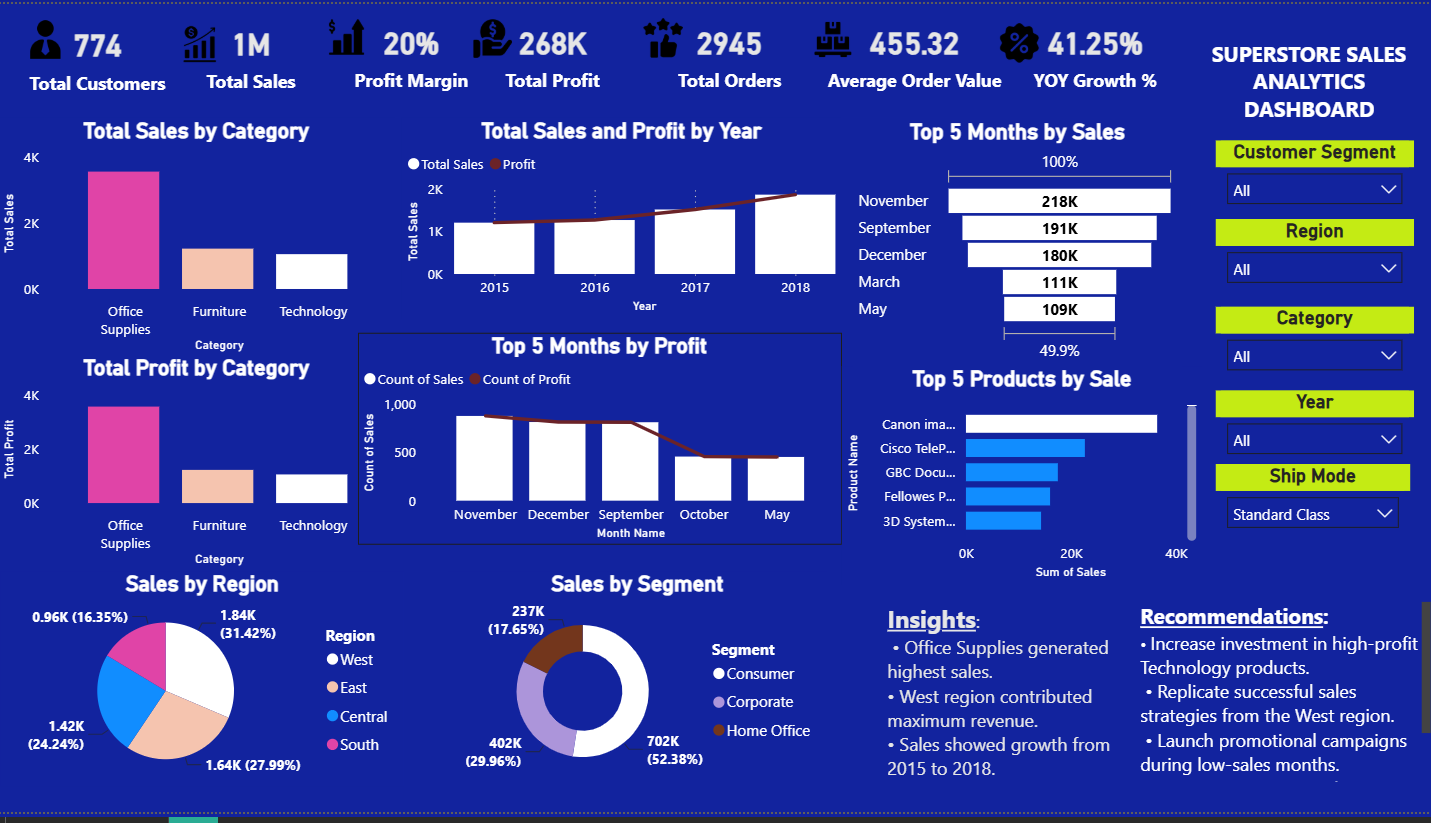

The dashboard page shown, as its layout file describes it:
{"tool":"powerbi","page":{"name":"Sales Dashboard","canvas":[1280,720],"ordinal":0},"visuals":[{"type":"card","fields":{"Values":["Sum(train task1.Sales)"]},"box":[159.3,1.2,132.6,89.5],"z":0},{"type":"card","fields":{"Values":["Sum(train task1.Profit)"]},"box":[418.6,0,151.2,89.5],"z":1000},{"type":"card","fields":{"Values":["Count(train task1.Order ID)"]},"box":[569.3,0,165.6,89.6],"z":2000},{"type":"columnChart","fields":{"Category":["train task1.Category"],"Y":["CountNonNull(train task1.Sales)"]},"box":[0,101.8,353.4,213.5],"z":3000},{"type":"columnChart","title":"Total Profit by Category","fields":{"Y":["CountNonNull(train task1.Profit)"],"Category":["train task1.Category"]},"box":[0,312.9,353.4,192.6],"z":4000},{"type":"lineStackedColumnComboChart","fields":{"Category":["train task1.Year"],"Y":["CountNonNull(train task1.Sales)"],"Y2":["CountNonNull(train task1.Profit)"]},"box":[359.5,101.8,391.4,179.1],"z":5000},{"type":"lineClusteredColumnComboChart","title":"Top 5 Months by Profit","fields":{"Category":["train task1.Month Name"],"Y":["CountNonNull(train task1.Sales)"],"Y2":["CountNonNull(train task1.Profit)"]},"box":[331.4,281.4,430.2,189.5],"z":6000},{"type":"pieChart","title":" Sales by Region","fields":{"Category":["train task1.Region"],"Y":["CountNonNull(train task1.Sales)"]},"box":[2.5,505.5,359.5,191.4],"z":7000},{"type":"clusteredBarChart","title":"Top 5 Products by Sale","fields":{"Category":["train task1.Product Name"],"Y":["Sum(train task1.Sales)"]},"box":[751.2,323.3,320.9,194.2],"z":8000},{"type":"shape","box":[1054.7,117.4,224.4,602.3],"z":9000},{"type":"slicer","title":"Region ","fields":{"Values":["train task1.Region"]},"box":[1083.7,191.9,176.7,101.2],"z":10000},{"type":"slicer","title":"Category","fields":{"Values":["train task1.Category"]},"box":[1083.7,269.8,176.7,109.3],"z":11000},{"type":"slicer","title":"Year","fields":{"Values":["train task1.Year"]},"box":[1083.7,344.2,176.7,76.7],"z":12000},{"type":"slicer","title":"Customer Segment","fields":{"Values":["train task1.Segment"]},"box":[1083.7,120.9,176.7,70.9],"z":13000},{"type":"card","fields":{"Values":["Count(train task1.Customer ID)"]},"box":[17.4,2.3,141.9,89.5],"z":14000},{"type":"card","fields":{"Values":["train task1.Profit Margin"]},"box":[296.5,0,144.2,89.5],"z":15000},{"type":"donutChart","title":"Sales by Segment","fields":{"Category":["train task1.Segment"],"Y":["Sum(train task1.Sales)"]},"box":[387.7,489.6,336.2,191.4],"z":16000},{"type":"funnel","title":"Top 5 Months by Sales","fields":{"Category":["train task1.Month Name"],"Y":["Sum(train task1.Sales)"]},"box":[761.6,102.3,293,220.9],"z":17000},{"type":"textbox","box":[1055.2,8.6,224.5,108],"z":18000},{"type":"textbox","box":[787.2,527.9,224.4,181.4],"z":19000},{"type":"image","box":[569.8,8.1,45.3,45.3],"z":20000},{"type":"image","box":[287.2,8.1,46.5,43],"z":21000},{"type":"card","fields":{"Values":["train task1.Average Order Value"]},"box":[733.7,0,165.6,89.6],"z":22000},{"type":"image","box":[718.6,10.5,48.8,43],"z":23000},{"type":"card","fields":{"Values":["DateTable.YOY Growth %"]},"box":[899.4,0,155.8,89.6],"z":24000},{"type":"image","box":[158.1,9.3,43,53.5],"z":25000},{"type":"image","box":[882.6,12.8,53.5,45.3],"z":26000},{"type":"image","box":[17.4,0,48.8,62.8],"z":27000},{"type":"image","box":[418.6,5.8,44.2,50],"z":28000},{"type":"textbox","box":[1011.6,527.9,268.6,169.8],"z":29000},{"type":"slicer","title":"Ship Mode","fields":{"Values":["train task1.Ship Mode"]},"box":[1083.7,409.3,173.3,80.2],"z":29001}]}

Visuals, with their boxes in screenshot pixels (x1, y1, x2, y2), scaled from the page's 1280x720 canvas onto the 1431x823 screenshot:
card - Sum(train task1.Sales): BBox(178, 1, 326, 104)
card - Sum(train task1.Profit): BBox(468, 0, 637, 102)
card - Count(train task1.Order ID): BBox(636, 0, 822, 102)
columnChart - train task1.Category x CountNonNull(train task1.Sales): BBox(0, 116, 395, 360)
"Total Profit by Category" columnChart: BBox(0, 358, 395, 578)
lineStackedColumnComboChart - train task1.Year x CountNonNull(train task1.Sales): BBox(402, 116, 839, 321)
"Top 5 Months by Profit" lineClusteredColumnComboChart: BBox(370, 322, 851, 538)
" Sales by Region" pieChart: BBox(3, 578, 405, 797)
"Top 5 Products by Sale" clusteredBarChart: BBox(840, 370, 1199, 592)
shape: BBox(1179, 134, 1430, 822)
"Region " slicer: BBox(1212, 219, 1409, 335)
"Category" slicer: BBox(1212, 308, 1409, 433)
"Year" slicer: BBox(1212, 393, 1409, 481)
"Customer Segment" slicer: BBox(1212, 138, 1409, 219)
card - Count(train task1.Customer ID): BBox(19, 3, 178, 105)
card - train task1.Profit Margin: BBox(331, 0, 493, 102)
"Sales by Segment" donutChart: BBox(433, 560, 809, 778)
"Top 5 Months by Sales" funnel: BBox(851, 117, 1179, 369)
textbox: BBox(1180, 10, 1430, 133)
textbox: BBox(880, 603, 1131, 811)
image: BBox(637, 9, 688, 61)
image: BBox(321, 9, 373, 58)
card - train task1.Average Order Value: BBox(820, 0, 1005, 102)
image: BBox(803, 12, 858, 61)
card - DateTable.YOY Growth %: BBox(1006, 0, 1180, 102)
image: BBox(177, 11, 225, 72)
image: BBox(987, 15, 1047, 66)
image: BBox(19, 0, 74, 72)
image: BBox(468, 7, 517, 64)
textbox: BBox(1131, 603, 1430, 798)
"Ship Mode" slicer: BBox(1212, 468, 1405, 560)
